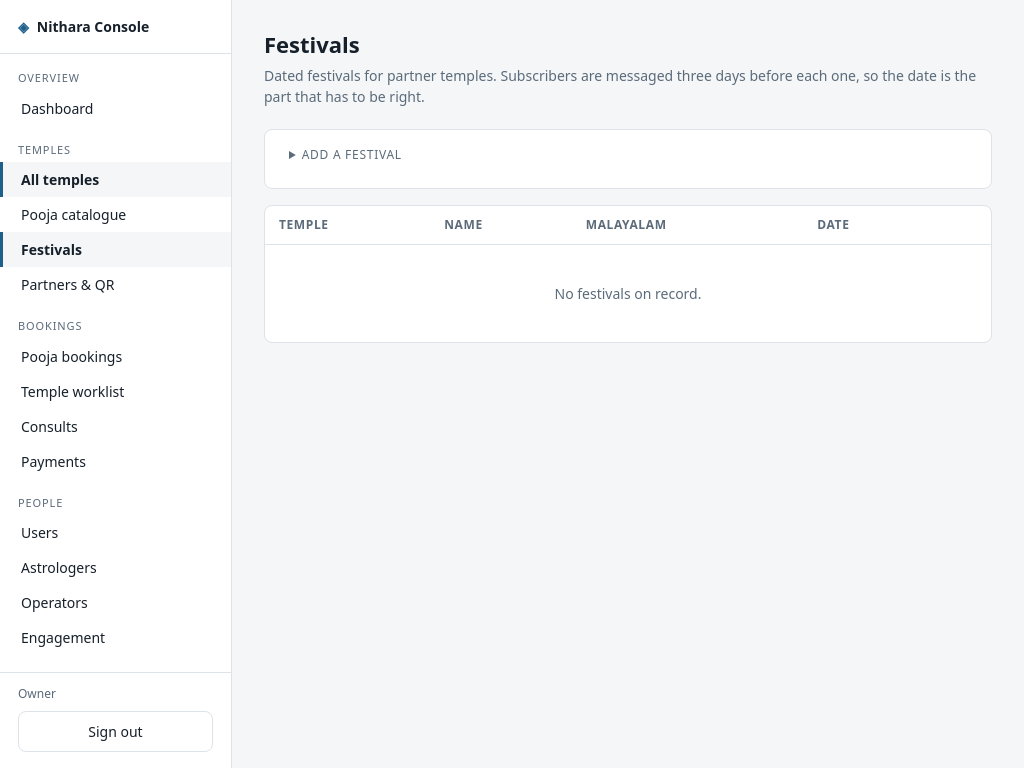
festivals › will not offer an add form when no partner exists to hang one on
Expected: the heading "Festivals" is shown, [264, 29, 360, 59]
Click the heading "Add a festival" at (352, 154), box [302, 146, 402, 163]
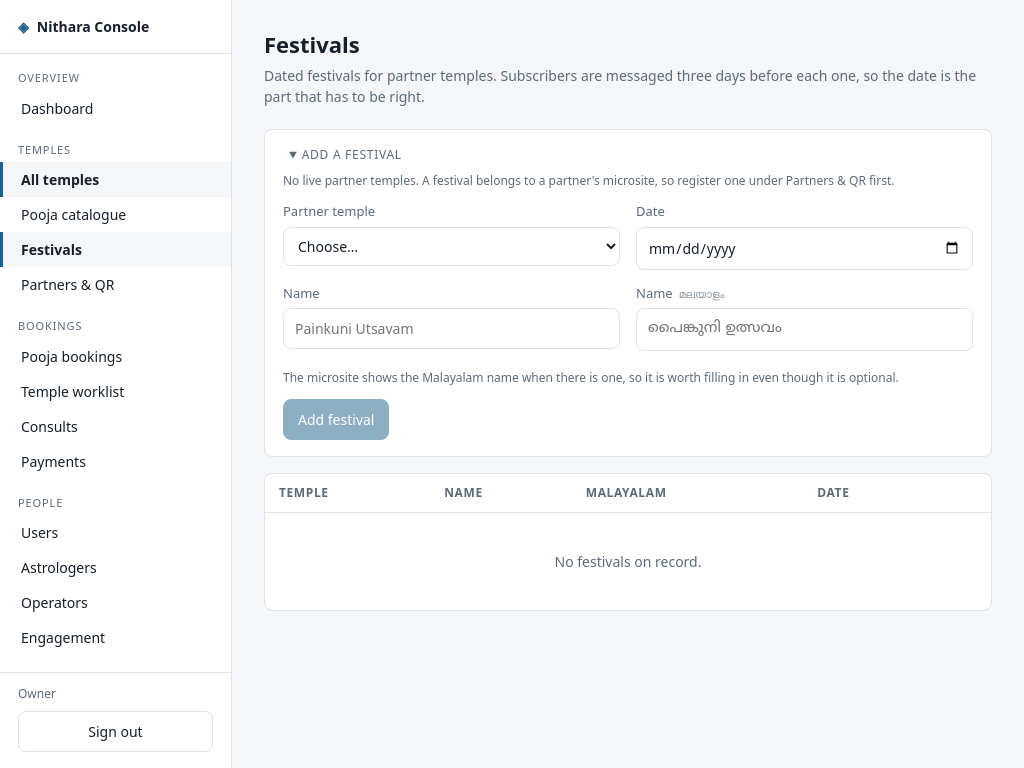
Expected: the text "No live partner temples" is shown, [283, 172, 894, 189]
Expected: the button "Add festival" is disabled, [283, 398, 390, 440]
